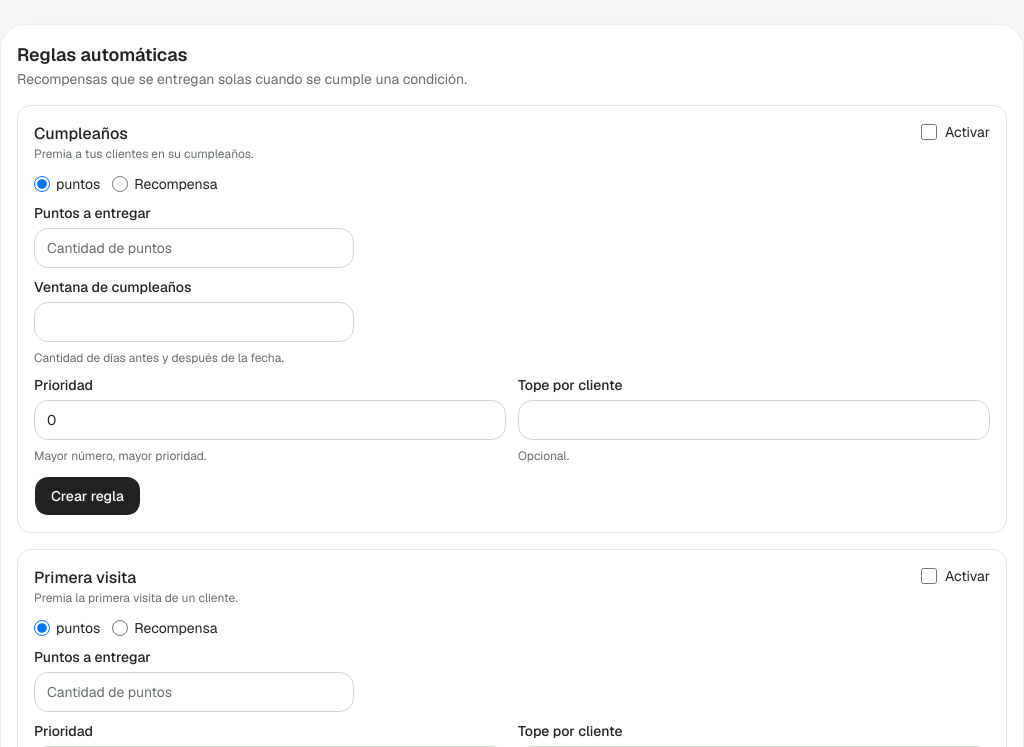
Scenario: loyalty form system › blocks an out-of-range automatic-rule value and focuses its associated field
Replace the text in the number field with id "birthday-priority" with "1001": (270, 420) 34,400 -> 506,440
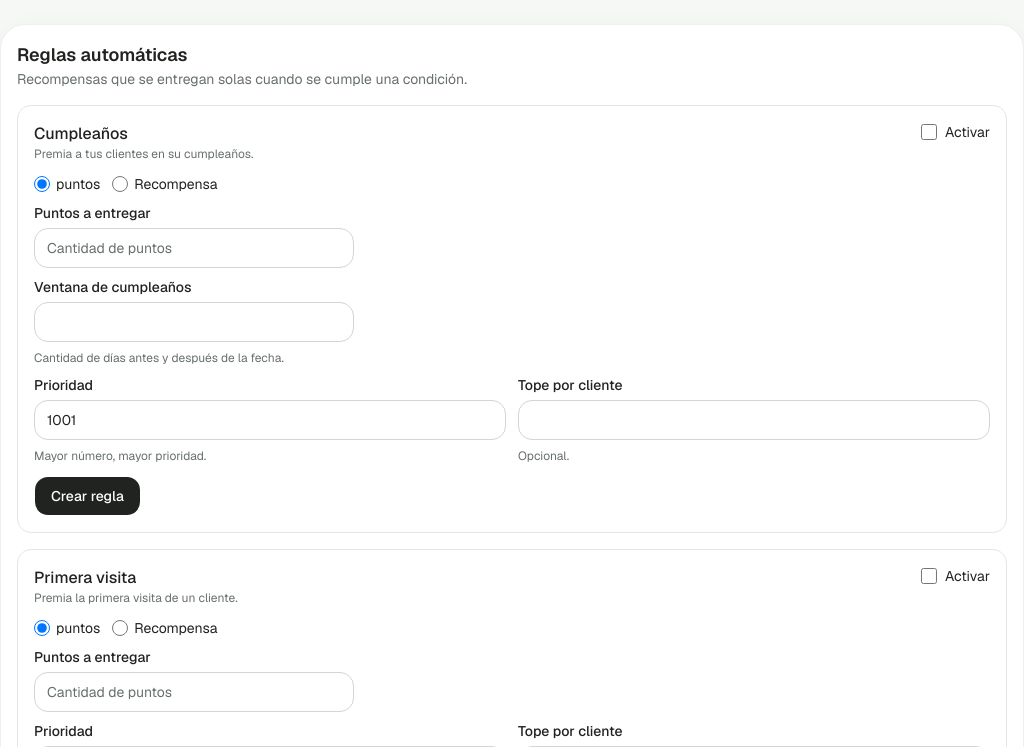
Submit the form that starts with "Cumpleaños", box 17,105 -> 1007,533
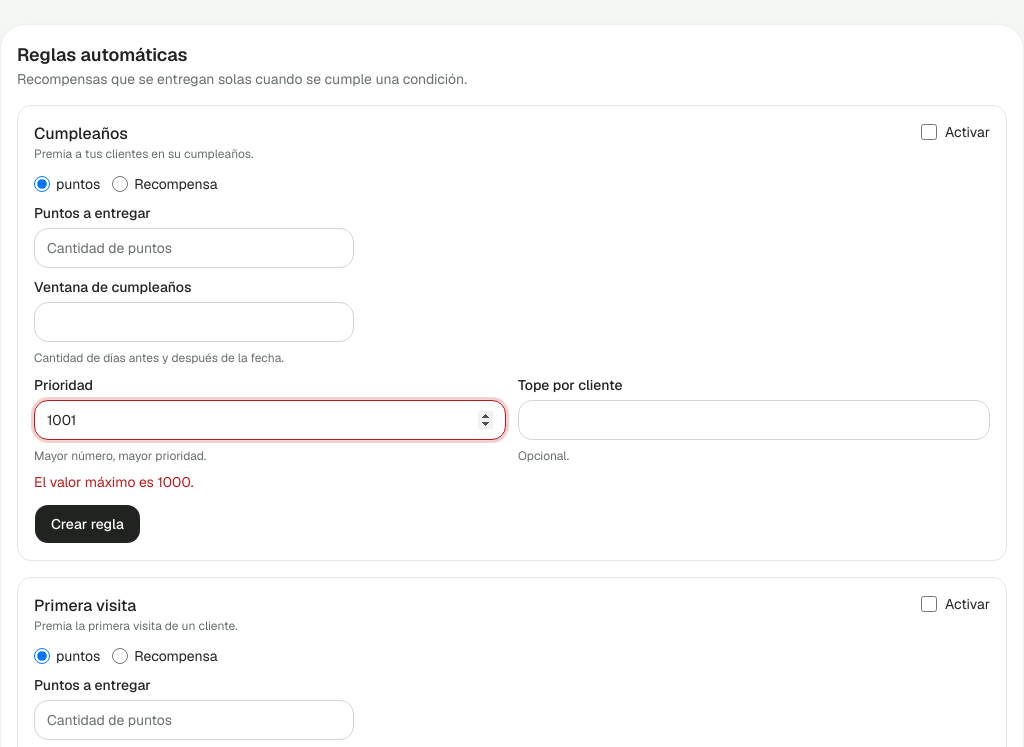
Replace the text in the number field with id "birthday-priority" with "100": (270, 420) 34,400 -> 506,440
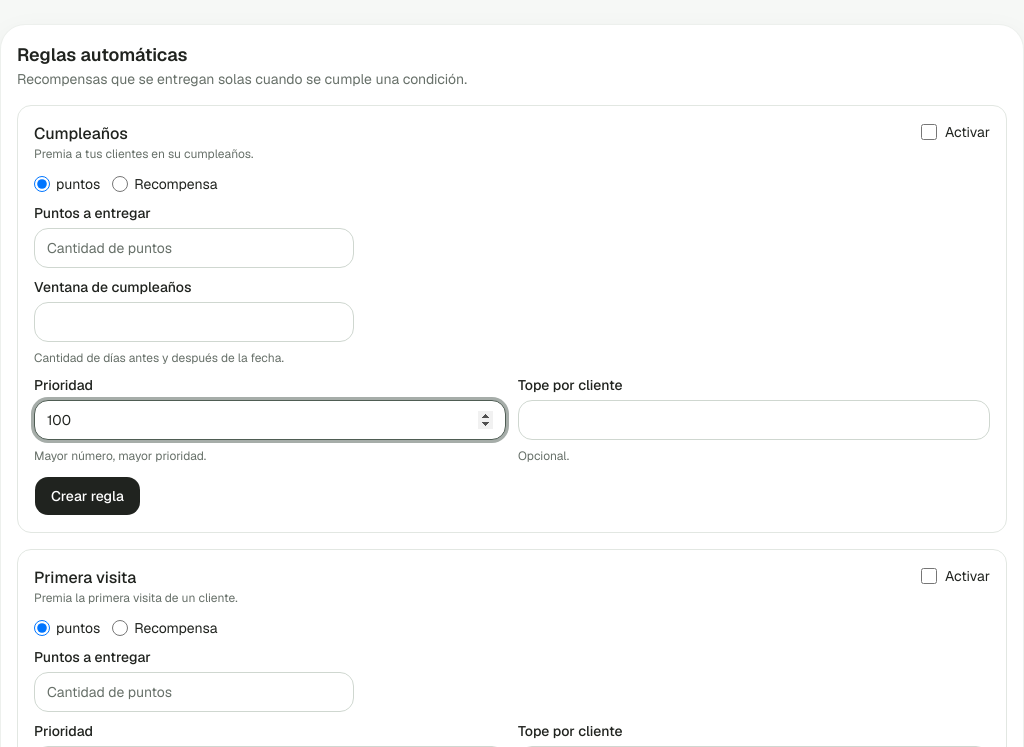
Now the message with id "birthday-priority-error" is gone
